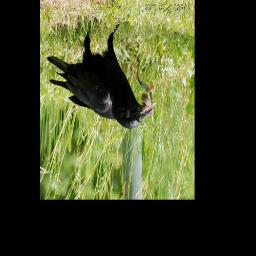Crow: (48, 22, 154, 129)
